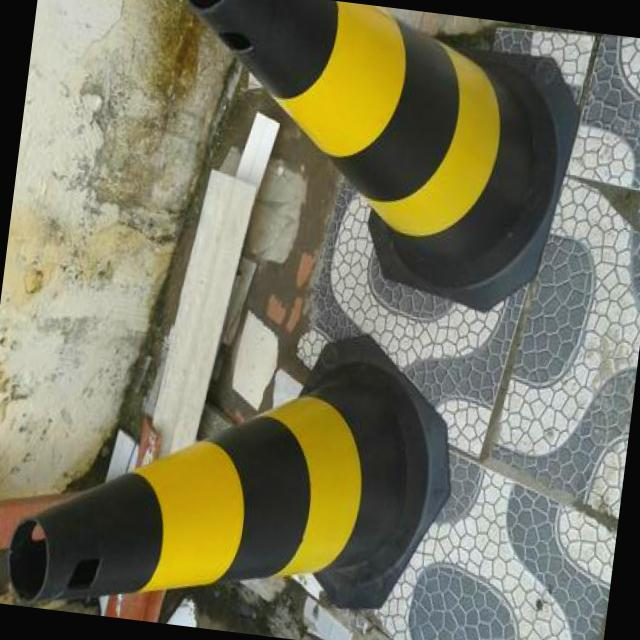cone: (0, 339, 444, 640), (126, 1, 577, 266)
